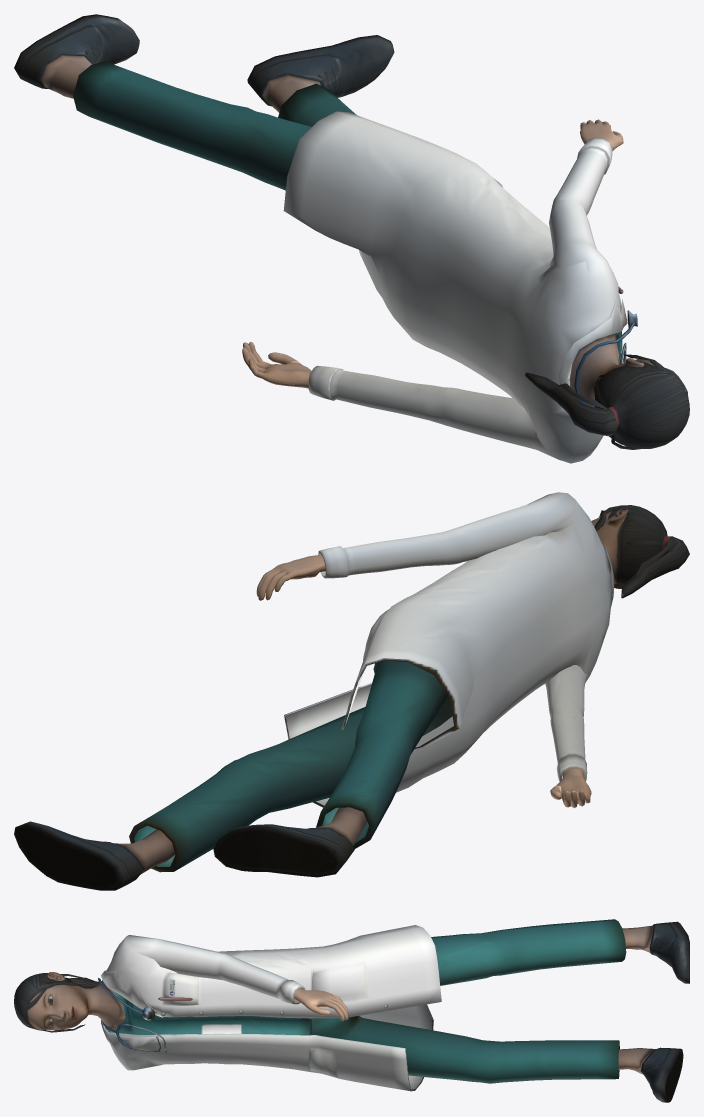
File: walk.obj
3 renders of one model, top to bottom at view 1: azimuth 30°, elevation 25°; view 2: azimuth 150°, elevation 25°; view 3: azimuth 270°, elevation 25°, orthographic. The views are drawn at different scales.
Bounding box in the file's own units: 0.7598 × 0.3735 × 1.71.
1 material, 1 textured.
